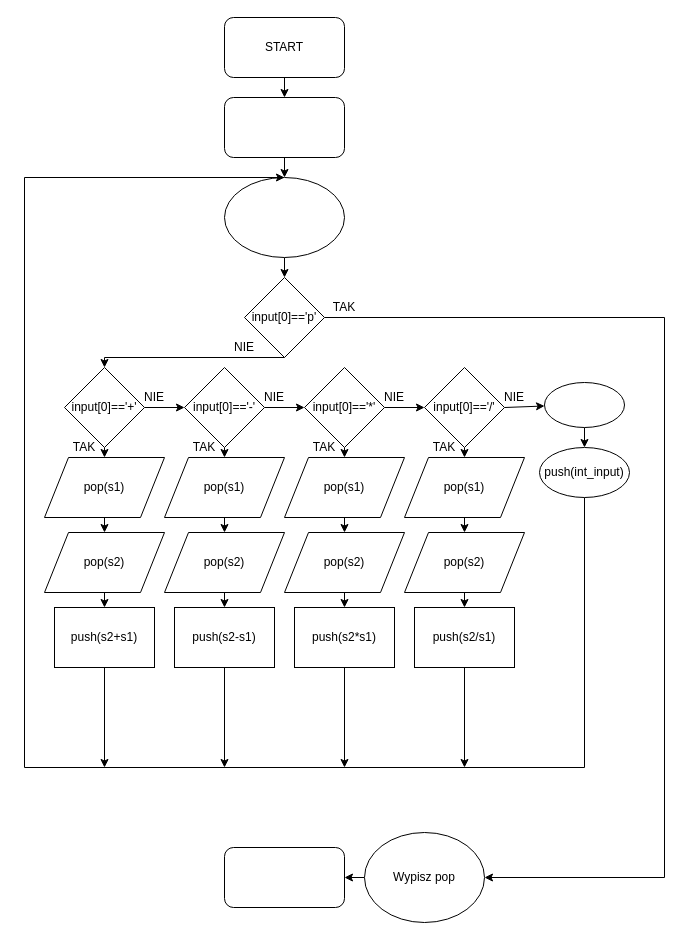
Some shapes in this 690 by 940 pixel diagram are drawn without their labels. Each missing label, with the centre of its shape:
Czytaj input: (284,217)
Czytaj int_input: (584,405)
input(10) int_input input[0]='q': (284,127)
STOP: (284,877)
